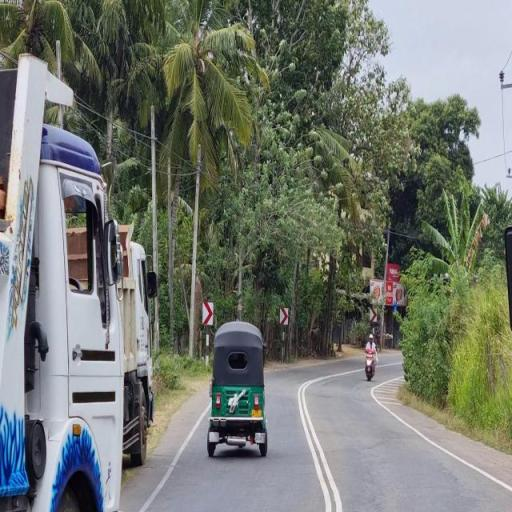double_white_line: (298, 373, 342, 510)
